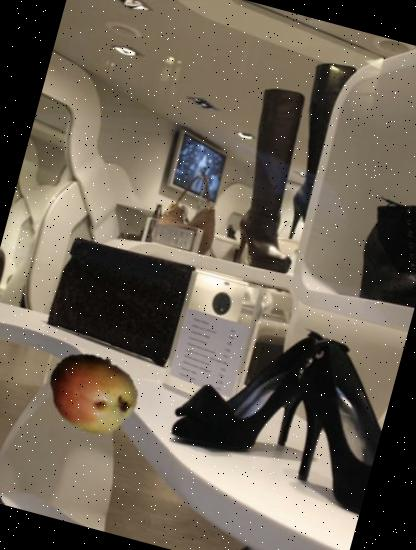Papaya: (36, 337, 148, 448)
